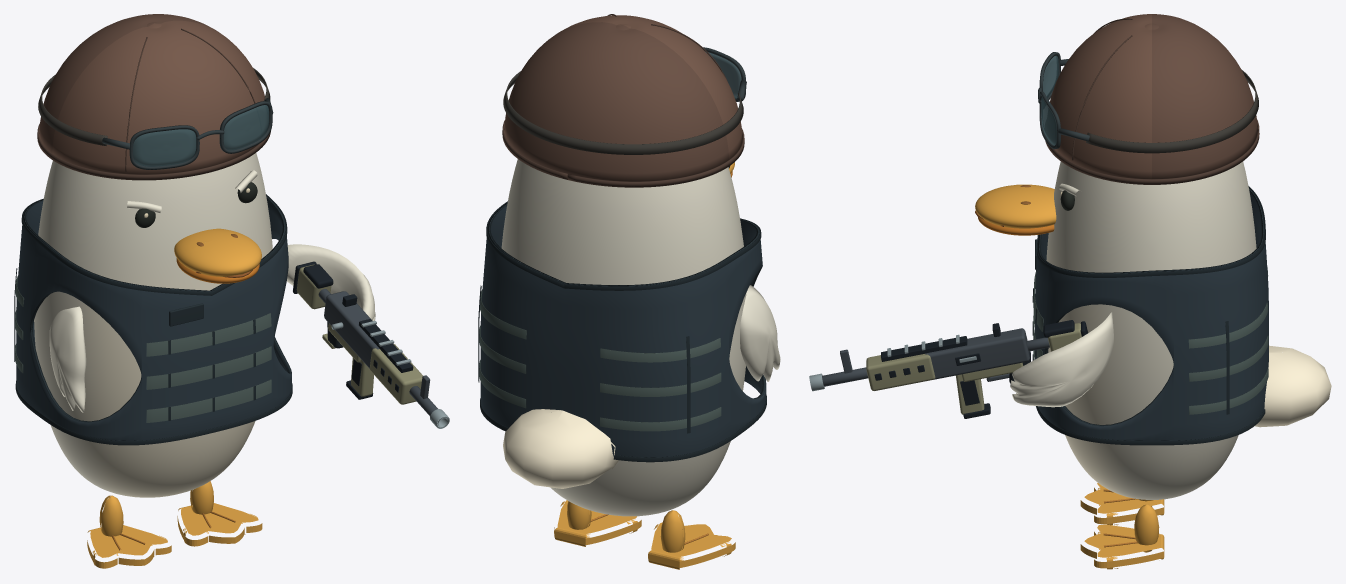
File: goose-weapon-wings-ready-preview.glb
The picture shows the model from 3 angles, left to right: view 1: azimuth 30°, elevation 25°; view 2: azimuth 150°, elevation 25°; view 3: azimuth 270°, elevation 25°; orthographic projection. The views are drawn at different scales.
Parts seen in each view (by area): view 1: goose_vest_refined_mesh, goose_torso_mesh, goose_face_aviator_cap_mesh, goose_face_raised_goggles_mesh, goose_beak_mesh, goose_leftFoot_mesh, goose_leftArm_mesh, prop_m4_m4 painted furniture, goose_rightFoot_mesh, goose_rightArm_mesh, prop_m4_Cerakote graphite, prop_m4_Recesses and rubber (+1 smaller); view 2: goose_vest_refined_mesh, goose_face_aviator_cap_mesh, goose_torso_mesh, goose_tail_mesh, goose_face_raised_goggles_mesh, goose_leftFoot_mesh, goose_leftArm_mesh, goose_rightFoot_mesh; view 3: goose_torso_mesh, goose_vest_refined_mesh, goose_face_aviator_cap_mesh, goose_rightArm_mesh, goose_tail_mesh, prop_m4_Cerakote graphite, goose_face_raised_goggles_mesh, goose_beak_mesh, prop_m4_m4 painted furniture, goose_rightFoot_mesh, prop_m4_Recesses and rubber, goose_leftFoot_mesh.
Boxes of the visible parts, box(x1,y1,x2,y2) form: goose_vest_refined_mesh: box(14, 194, 292, 445); goose_torso_mesh: box(34, 153, 272, 497); goose_face_aviator_cap_mesh: box(37, 14, 270, 180); goose_face_raised_goggles_mesh: box(38, 68, 273, 169); goose_beak_mesh: box(174, 228, 261, 283); goose_leftFoot_mesh: box(87, 495, 171, 568); goose_leftArm_mesh: box(49, 306, 86, 412); prop_m4_m4 painted furniture: box(296, 264, 422, 404); goose_rightFoot_mesh: box(177, 481, 262, 546); goose_rightArm_mesh: box(287, 244, 375, 320); prop_m4_Cerakote graphite: box(318, 289, 437, 416); prop_m4_Recesses and rubber: box(293, 261, 413, 399); goose_vest_refined_mesh: box(478, 201, 766, 462); goose_face_aviator_cap_mesh: box(502, 14, 744, 187); goose_torso_mesh: box(501, 159, 746, 516); goose_tail_mesh: box(503, 409, 618, 488); goose_face_raised_goggles_mesh: box(503, 47, 746, 154); goose_leftFoot_mesh: box(648, 510, 735, 569); goose_leftArm_mesh: box(740, 285, 780, 381); goose_rightFoot_mesh: box(554, 500, 641, 546); goose_torso_mesh: box(1046, 161, 1256, 499); goose_vest_refined_mesh: box(1032, 186, 1268, 445); goose_face_aviator_cap_mesh: box(1045, 14, 1259, 184); goose_rightArm_mesh: box(1010, 312, 1113, 407); goose_tail_mesh: box(1254, 345, 1331, 427); prop_m4_Cerakote graphite: box(822, 328, 1049, 386); goose_face_raised_goggles_mesh: box(1038, 52, 1258, 153); goose_beak_mesh: box(975, 184, 1056, 235); prop_m4_m4 painted furniture: box(866, 323, 1081, 414); goose_rightFoot_mesh: box(1080, 504, 1164, 569); prop_m4_Recesses and rubber: box(874, 320, 1087, 418); goose_leftFoot_mesh: box(1080, 483, 1164, 525).
Size of the model in its own units: 1.26 by 2.15 by 2.01.
